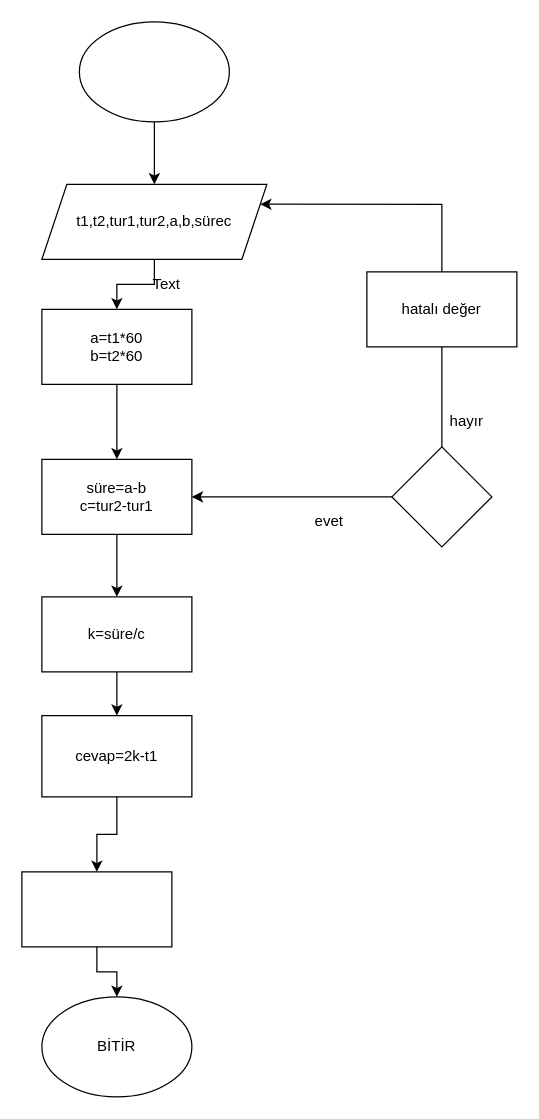
The diagram is 539 pixels wide and 1119 high, and some of its shapes have lost their labels. The shapes that lost their labels are listed below. From the top down, each one's box as (x1, y1, x2, y2) in pixels, then its label:
(78, 21, 229, 122): BAŞLA
(391, 446, 492, 547): tur2-tur1>0
(21, 871, 172, 947): cevap
